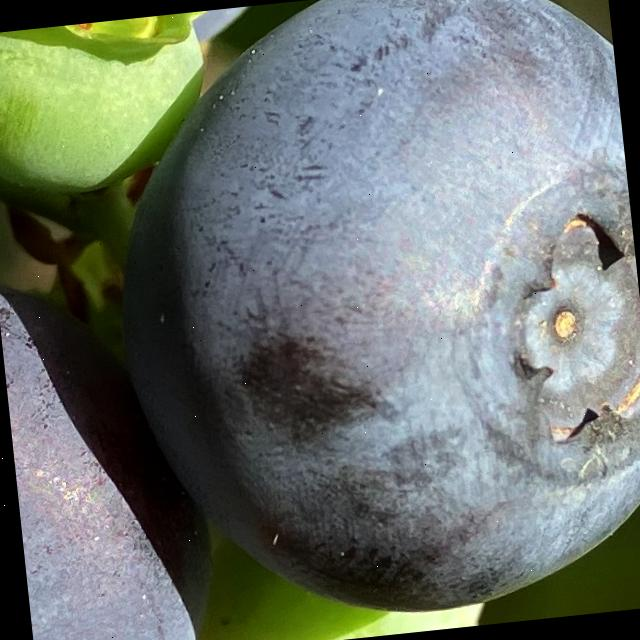Blueberries: (89, 0, 640, 640), (0, 5, 275, 219)
